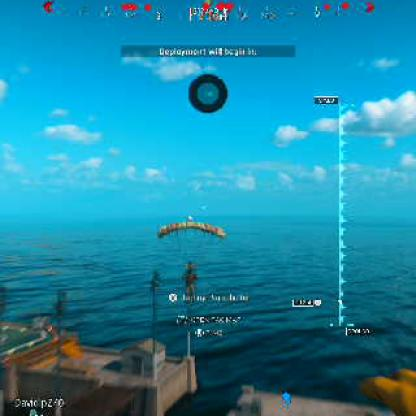enemy: (184, 264, 200, 302)
